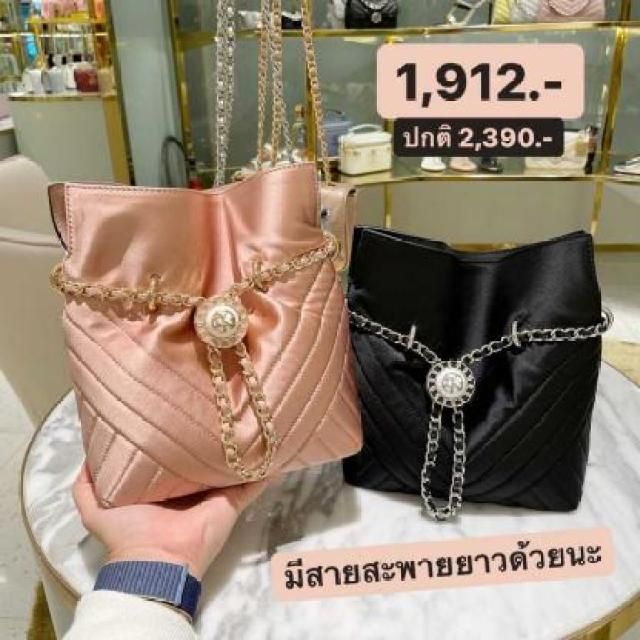Bag: (17, 94, 389, 538)
